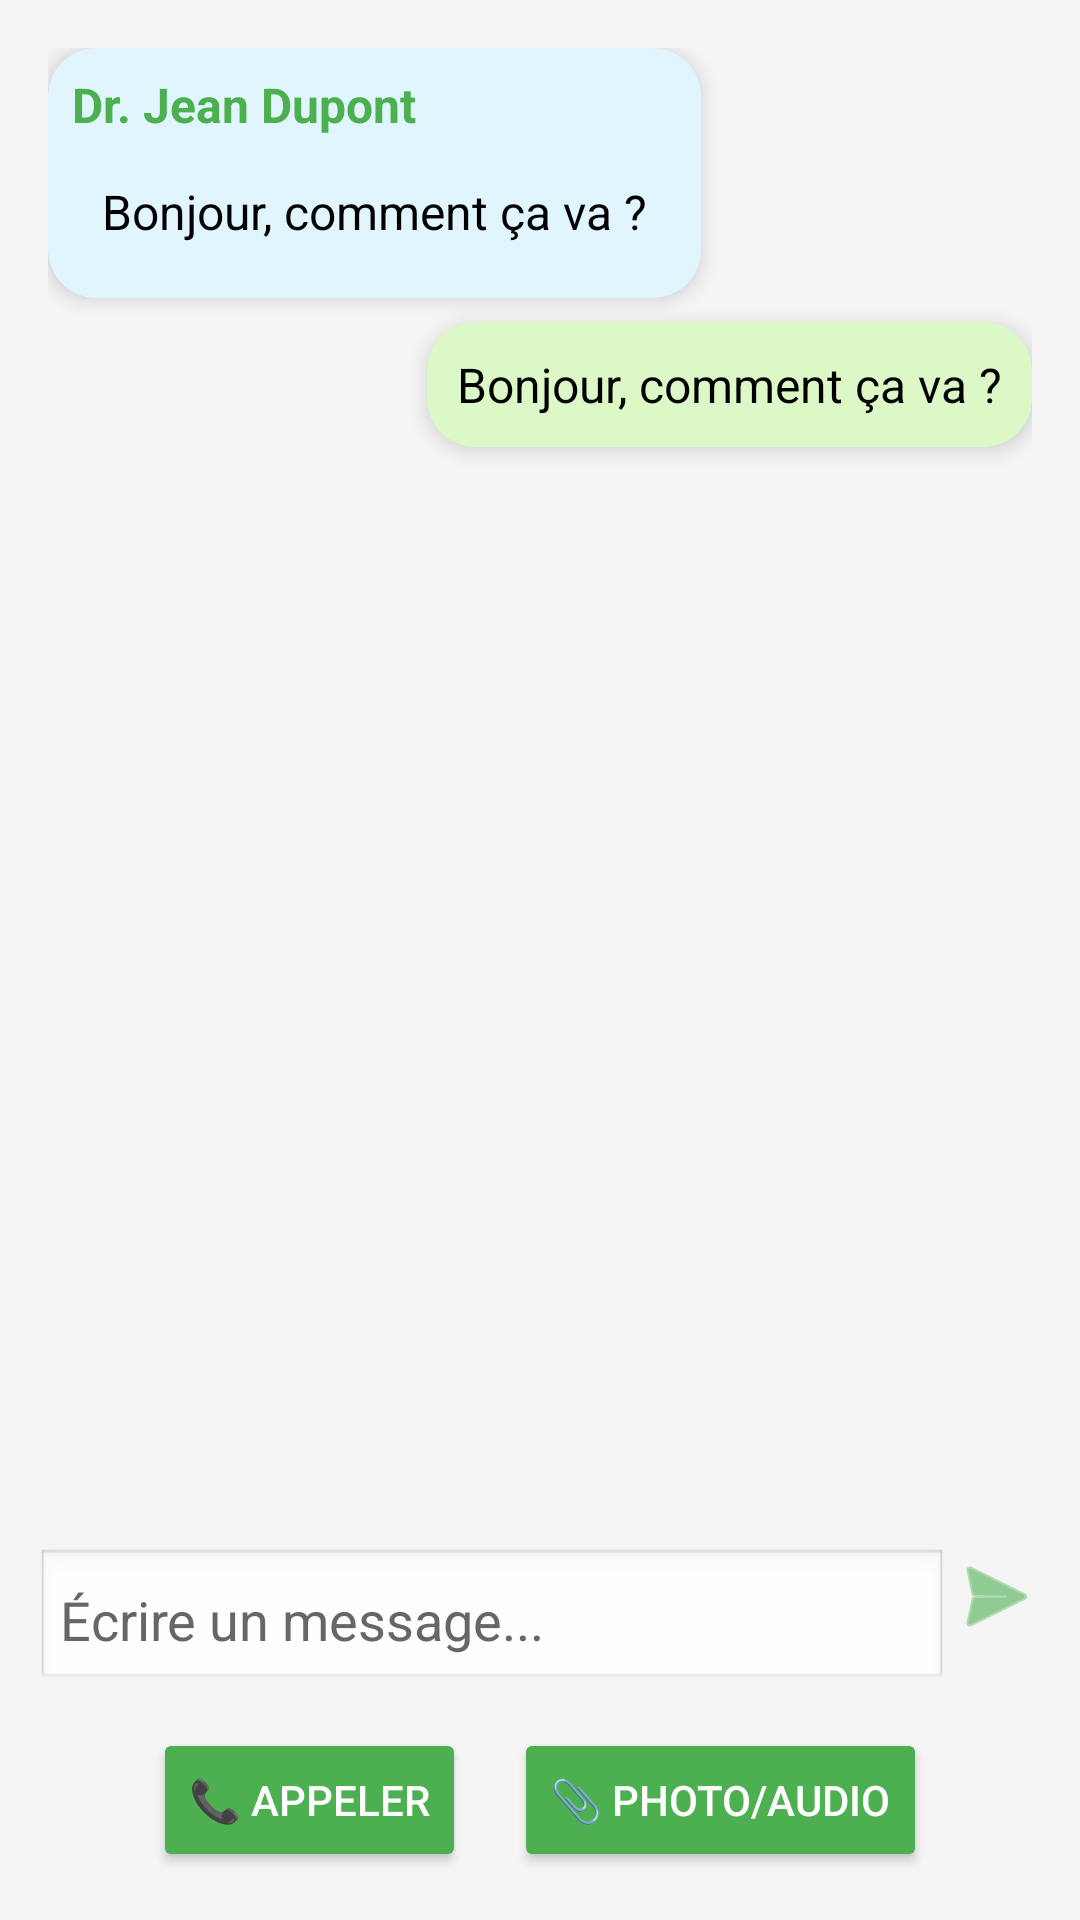

Icons on this 1080*1920 Android screen, each with its box as (x1, y1, x2, y2):
Envoyer: (966, 1566, 1027, 1627)
